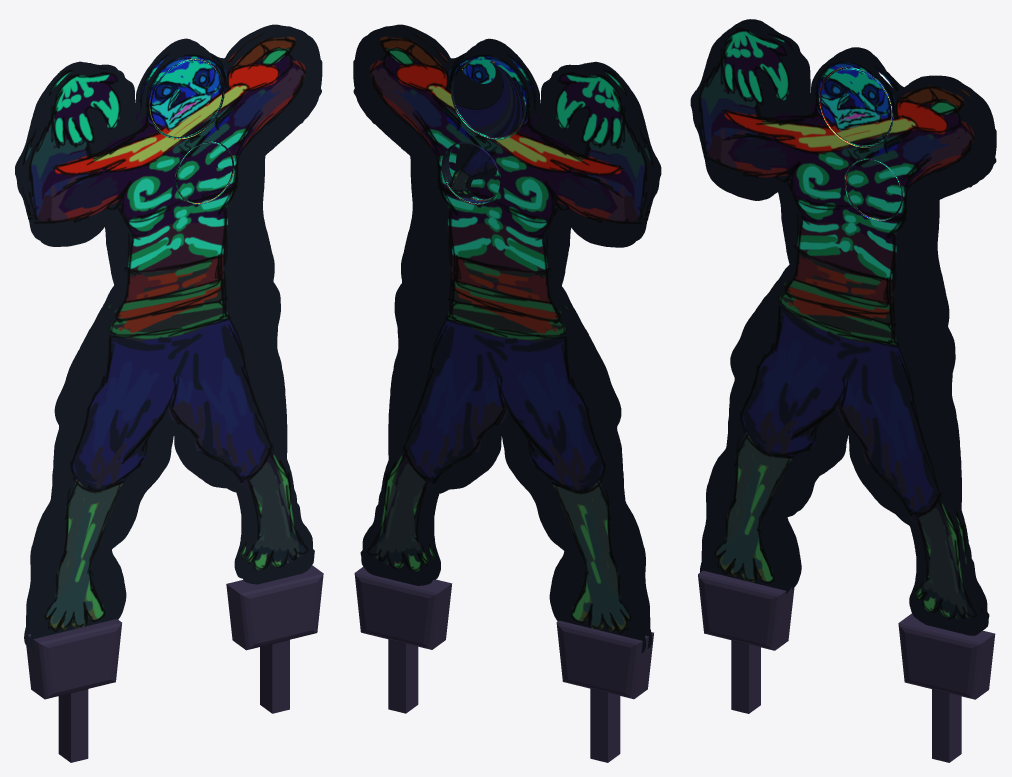
The model's file is Skeleton.fbx.
The picture shows the model from 3 angles, left to right: view 1: azimuth 30°, elevation 25°; view 2: azimuth 150°, elevation 25°; view 3: azimuth 330°, elevation 25°; orthographic projection.
Visible parts, largest first — view 1: Skeleton, SkeletonHolder, SkeletonHead, SkeletonHeart; view 2: Skeleton, SkeletonHolder, SkeletonHead, SkeletonHeart; view 3: Skeleton, SkeletonHolder, SkeletonHead, SkeletonHeart.
Part boxes in pixels (bbox=[...]): Skeleton: bbox=[15, 24, 322, 651]; SkeletonHolder: bbox=[26, 565, 323, 762]; SkeletonHead: bbox=[149, 58, 222, 137]; SkeletonHeart: bbox=[175, 141, 232, 202]; Skeleton: bbox=[353, 24, 661, 653]; SkeletonHolder: bbox=[354, 566, 653, 762]; SkeletonHead: bbox=[453, 58, 526, 137]; SkeletonHeart: bbox=[444, 142, 500, 202]; Skeleton: bbox=[690, 19, 996, 635]; SkeletonHolder: bbox=[698, 570, 995, 762]; SkeletonHead: bbox=[821, 67, 893, 145]; SkeletonHeart: bbox=[846, 158, 902, 219].
Bounding box in the file's own units: 0.9523 × 2.07 × 0.093.
